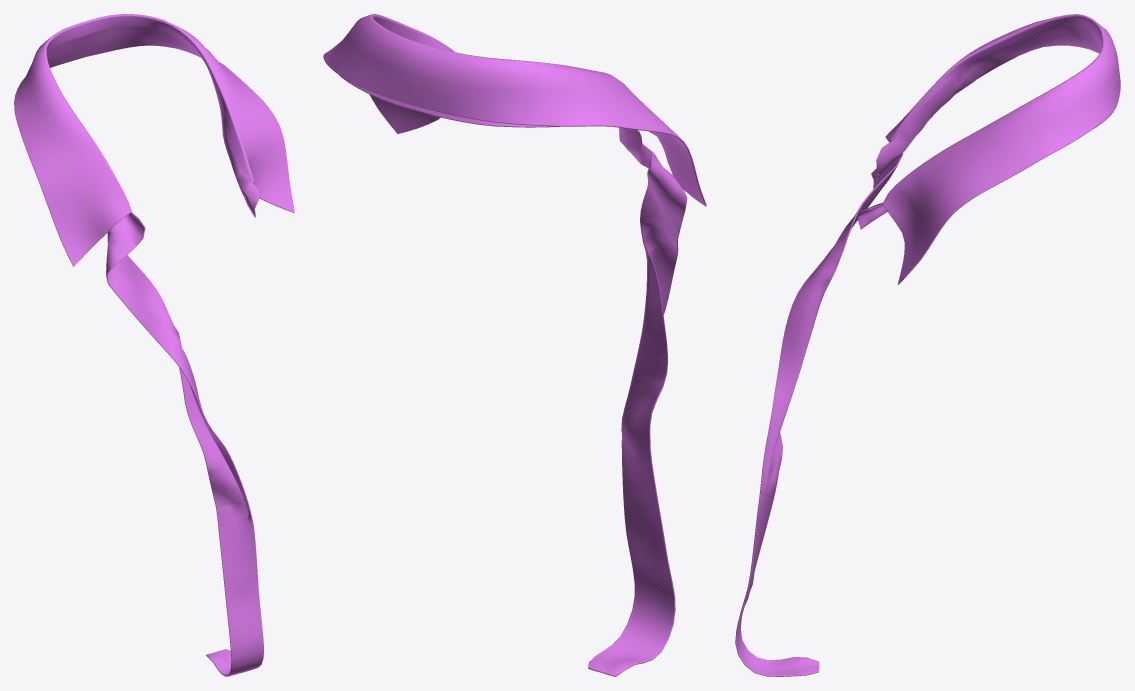
3 views of the same model, side by side, from view 1: azimuth 30°, elevation 25°; view 2: azimuth 150°, elevation 25°; view 3: azimuth 270°, elevation 25° (orthographic). The views are drawn at different scales.
Visible parts, largest first — view 1: Object_6; view 2: Object_6; view 3: Object_6.
Part boxes in pixels (x1,y1,x2,y2): Object_6: [14, 14, 294, 676]; Object_6: [323, 14, 706, 676]; Object_6: [735, 14, 1120, 676].
Bounding box in the file's own units: 0.2018 × 0.438 × 0.2432.
